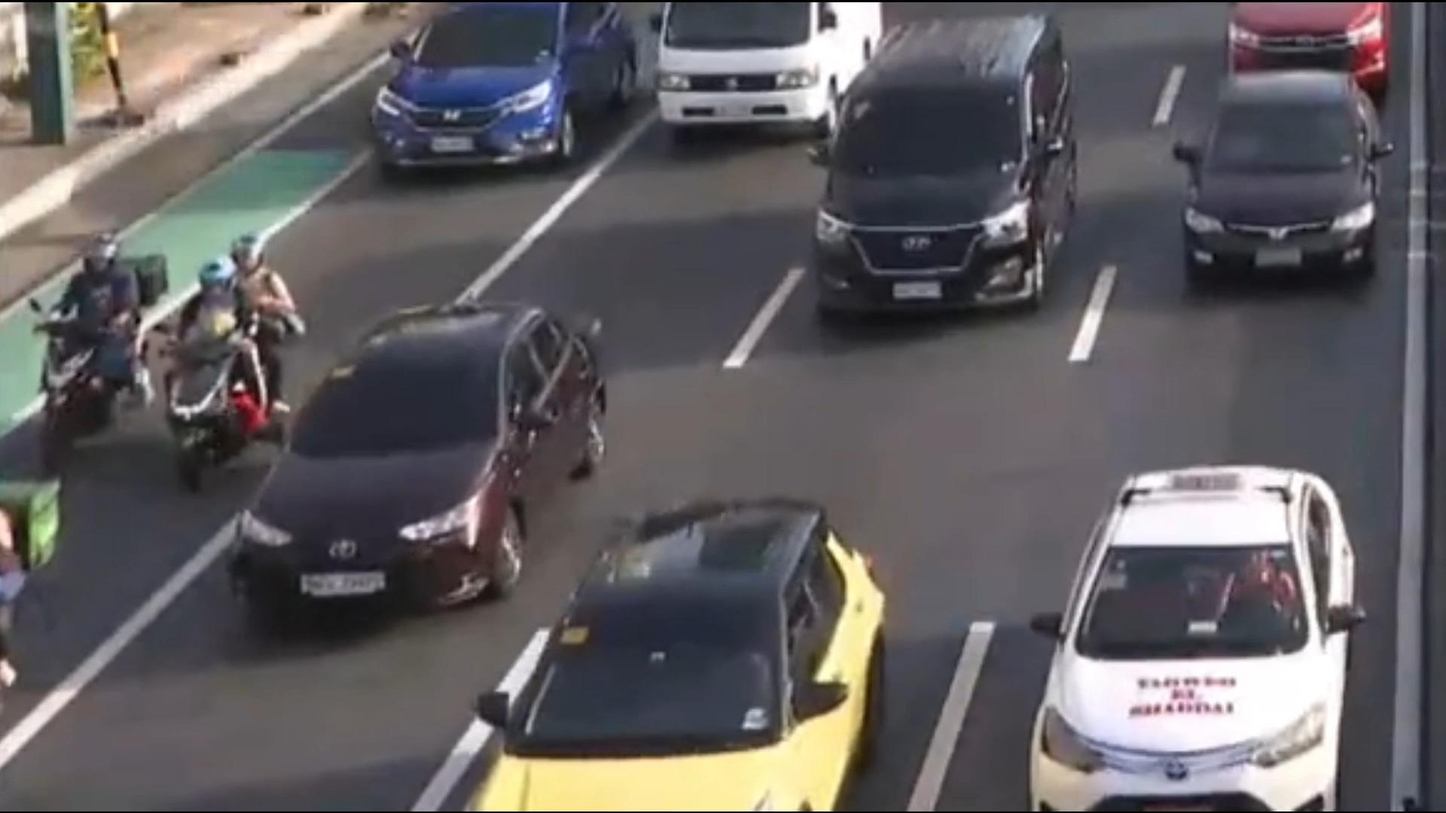Motorcycle: (23, 220, 185, 483), (157, 223, 298, 483)
SUV: (411, 446, 957, 813)
Sedan: (184, 273, 628, 661), (1013, 395, 1389, 813), (356, 0, 654, 192), (1160, 71, 1403, 297)
Truck: (659, 0, 892, 170)
Van: (772, 0, 1091, 376)
